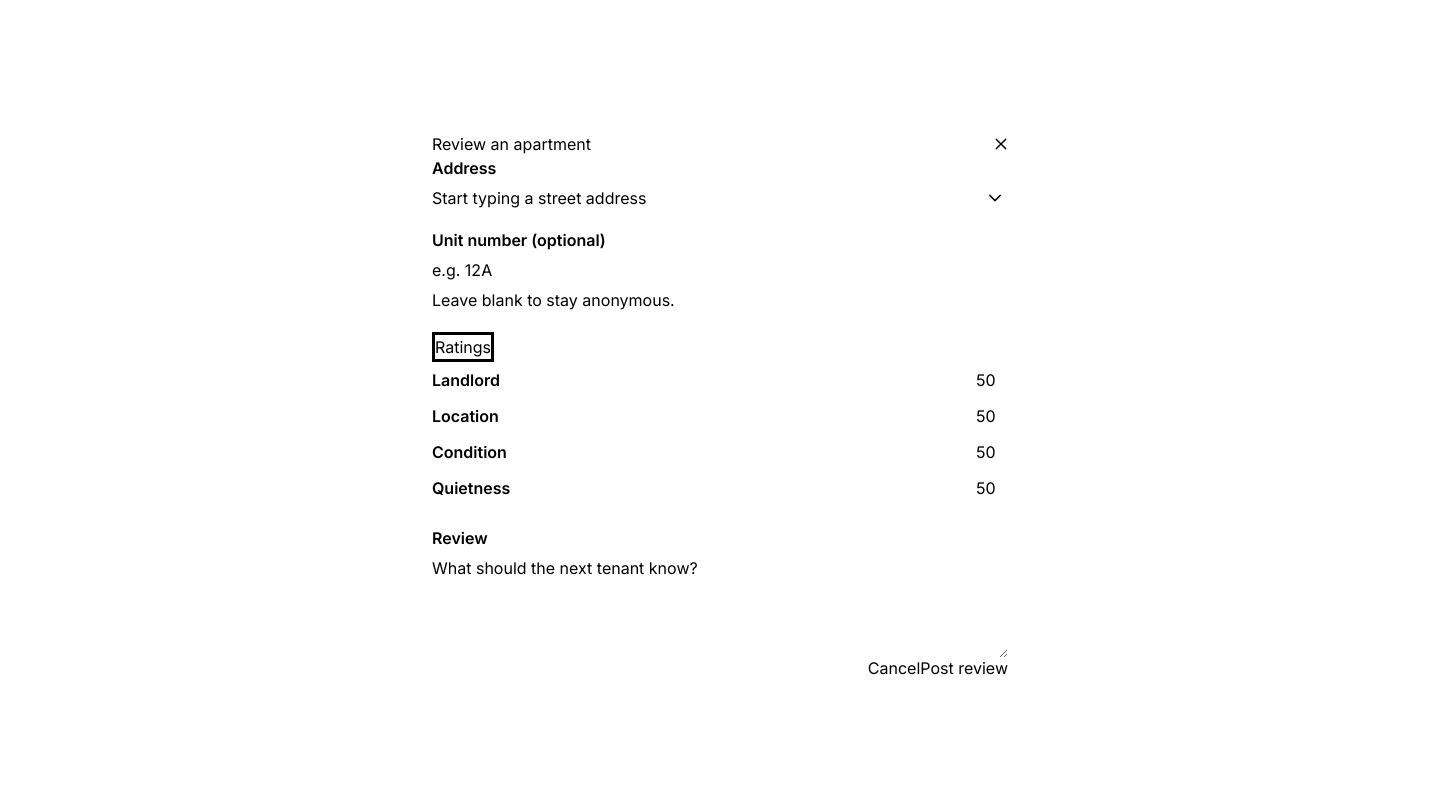
Test: CreateReviewModal posting › asks for an address from the list when none was picked
In the text box with id "review": (720, 608) [432,558,1008,658], type "Great light, slow repairs."
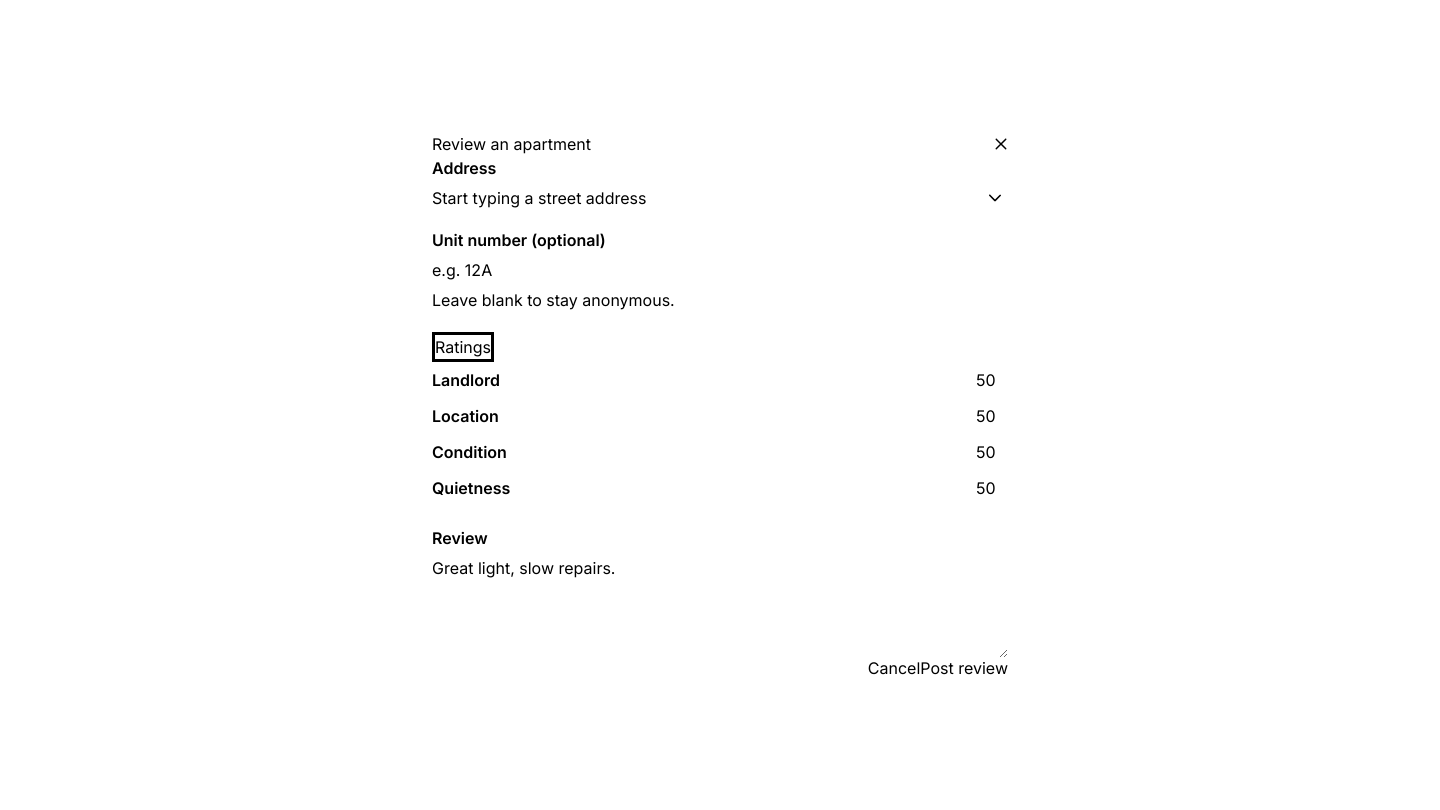
Click the button "Post review": click(964, 668) [920,658,1008,678]
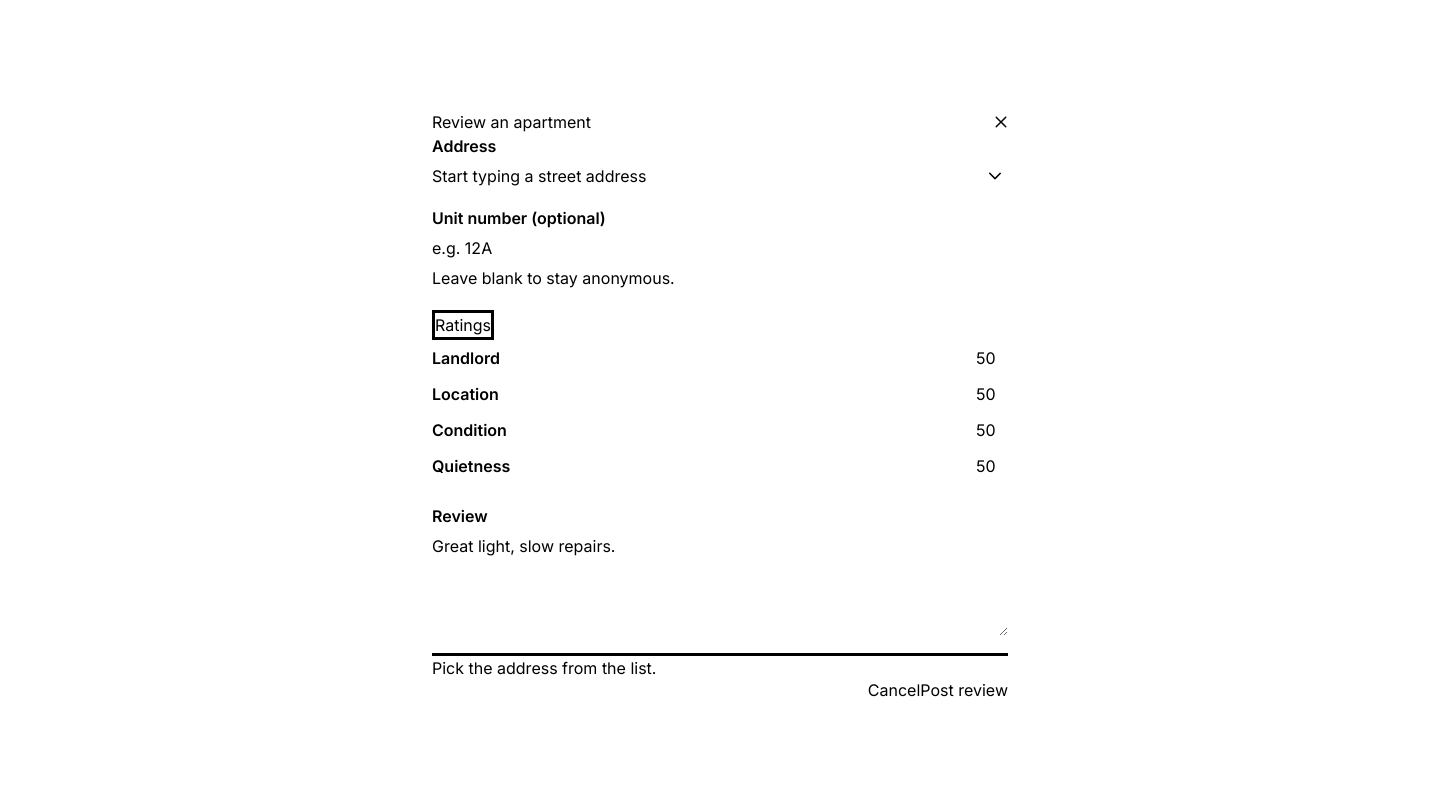
Result: the message "Pick the address from the list." is shown at [432,658,656,678]
